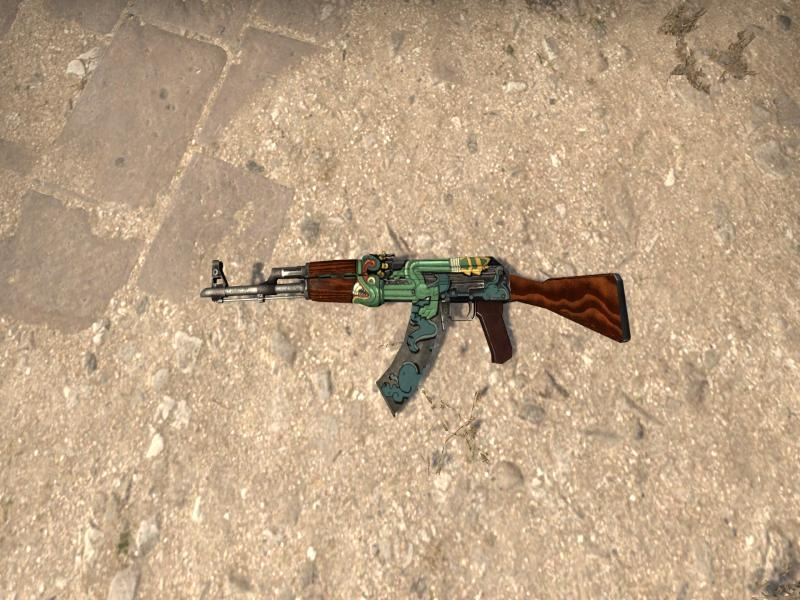AK47: (200, 253, 631, 412)
